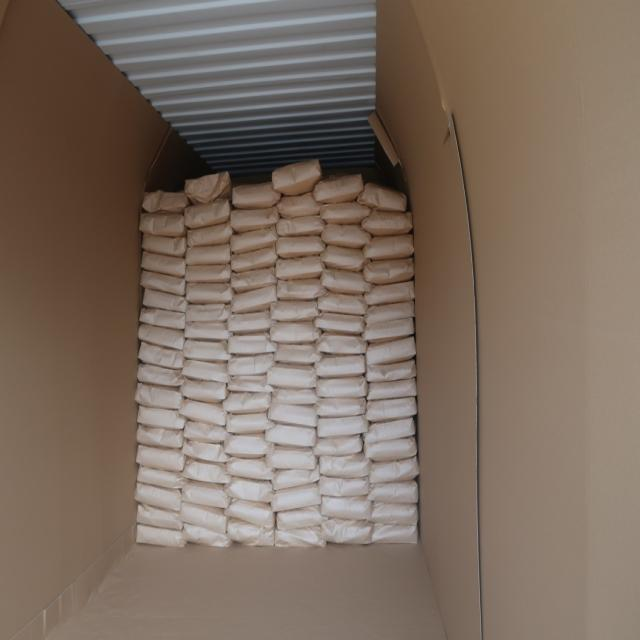gunny_bag: (272, 158, 321, 196), (180, 502, 229, 534), (186, 170, 232, 204), (314, 176, 366, 206), (365, 336, 416, 366), (270, 482, 321, 512), (368, 454, 418, 484), (225, 500, 275, 530), (184, 198, 232, 229), (361, 208, 414, 236), (363, 416, 416, 444), (362, 258, 414, 286), (362, 234, 414, 262), (228, 285, 276, 315), (136, 482, 183, 512), (322, 269, 374, 296), (266, 362, 318, 389), (319, 452, 373, 478), (364, 397, 416, 424), (358, 185, 408, 213), (230, 206, 280, 234), (180, 399, 230, 427), (364, 437, 417, 463), (229, 227, 278, 255), (314, 352, 366, 378), (265, 424, 317, 450), (322, 518, 374, 544), (363, 280, 415, 306), (362, 316, 414, 342), (230, 183, 280, 210), (322, 244, 370, 272), (138, 445, 186, 473), (140, 324, 187, 352), (322, 497, 374, 522), (364, 357, 416, 382), (181, 482, 231, 508), (137, 466, 189, 491), (363, 301, 415, 326), (137, 382, 185, 409), (228, 518, 274, 546), (368, 479, 419, 504), (224, 434, 275, 459), (183, 458, 232, 484), (316, 293, 369, 317), (227, 478, 274, 505), (140, 342, 187, 369), (230, 245, 277, 272), (322, 224, 372, 249), (226, 455, 276, 480), (274, 256, 324, 281), (270, 468, 320, 493), (275, 278, 327, 302), (270, 299, 322, 323), (266, 404, 318, 428), (138, 406, 186, 432), (276, 507, 328, 531), (263, 446, 317, 469), (366, 377, 417, 401), (136, 523, 187, 547), (138, 504, 185, 530), (183, 440, 230, 466), (319, 475, 372, 498), (140, 191, 188, 216), (322, 200, 372, 224), (276, 234, 326, 258), (140, 212, 188, 237), (138, 426, 186, 451), (182, 358, 232, 382), (182, 523, 232, 547), (318, 415, 370, 438), (316, 334, 368, 357), (230, 267, 276, 293), (141, 270, 187, 296), (268, 320, 320, 343), (314, 312, 366, 335), (142, 253, 188, 279), (275, 193, 322, 218), (139, 362, 186, 387), (222, 391, 273, 414), (315, 398, 368, 420), (227, 310, 275, 334), (370, 503, 418, 527), (182, 378, 230, 402), (274, 215, 324, 238), (226, 333, 276, 356), (316, 376, 368, 398), (188, 223, 233, 248), (228, 352, 276, 375), (272, 343, 320, 366), (225, 412, 275, 434), (314, 435, 364, 457), (182, 340, 232, 362), (142, 234, 188, 257), (185, 243, 231, 266), (141, 307, 187, 330), (186, 281, 234, 303), (274, 530, 326, 550), (368, 523, 417, 544), (183, 420, 229, 442), (142, 290, 188, 312), (186, 265, 232, 286), (184, 303, 230, 324), (186, 320, 232, 340), (226, 374, 272, 394), (270, 387, 318, 405)
